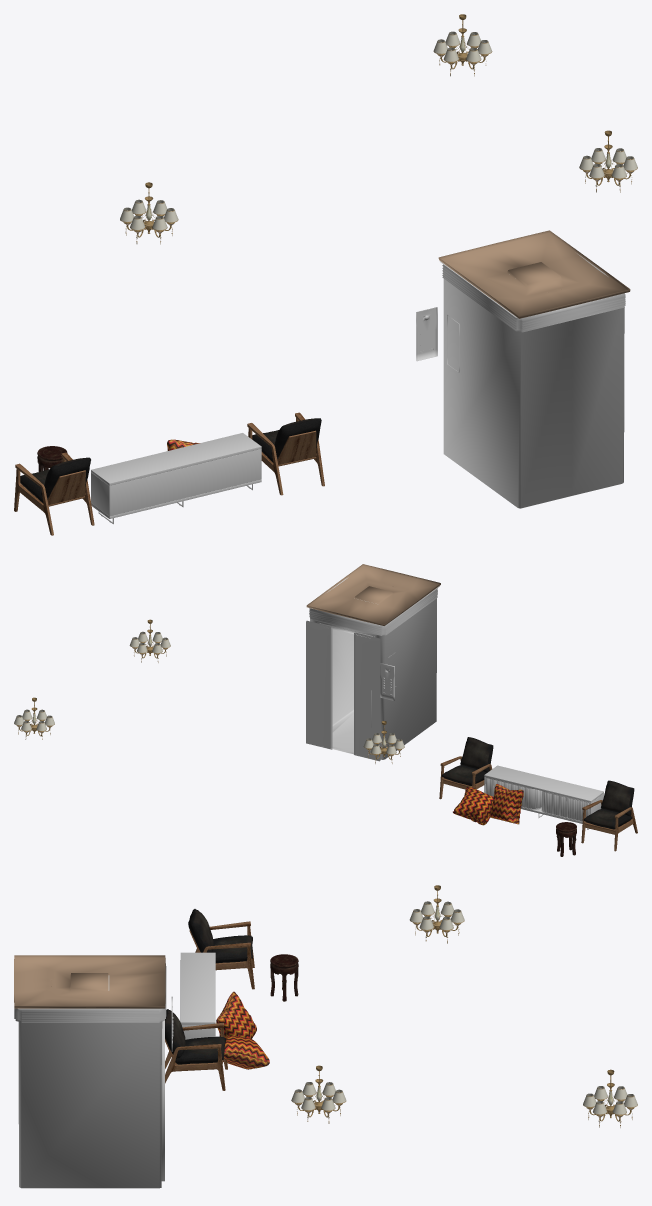
The picture shows the model from 3 angles, top to bottom: view 1: azimuth 30°, elevation 25°; view 2: azimuth 150°, elevation 25°; view 3: azimuth 270°, elevation 25°; orthographic projection. The views are drawn at different scales.
Parts seen in each view (by area): view 1: Box001, roof, modern_wooden_cabinet_body, modern_arm_chair_01, modern_arm_chair_01 (1), Chandelier_01.002, Chandelier_01.002 (2), Chandelier_01.002 (1), Panel-outer; view 2: Box001, roof, elevator-door-left, elevator-door-right, modern_wooden_cabinet_body, modern_arm_chair_01, modern_arm_chair_01 (1), throw_pillows_01_pillow01, throw_pillows_01_pillow02, modern_wooden_cabinet_door_r, Chandelier_01.002 (1), Chandelier_01.002 (2) (+4 smaller); view 3: Box001, roof, modern_wooden_cabinet_body, modern_arm_chair_01 (1), modern_arm_chair_01, Chandelier_01.002, Chandelier_01.002 (2), Chandelier_01.002 (1), throw_pillows_01_pillow01, throw_pillows_01_pillow02, WoodenTable_02.
Part boxes in pixels (x1,y1,x2,y2): Box001: (440,253,625,508); roof: (438,230,630,318); modern_wooden_cabinet_body: (91,433,261,524); modern_arm_chair_01: (14,452,94,535); modern_arm_chair_01 (1): (247,412,324,495); Chandelier_01.002: (120,182,178,244); Chandelier_01.002 (2): (433,14,492,76); Chandelier_01.002 (1): (579,130,637,192); Panel-outer: (416,307,437,361); Box001: (308,577,439,759); roof: (306,564,440,625); elevator-door-left: (306,620,332,749); elevator-door-right: (354,632,380,761); modern_wooden_cabinet_body: (484,765,603,829); modern_arm_chair_01: (581,780,637,851); modern_arm_chair_01 (1): (439,737,493,799); throw_pillows_01_pillow01: (453,787,493,825); throw_pillows_01_pillow02: (489,784,523,824); modern_wooden_cabinet_door_r: (542,791,590,821); Chandelier_01.002 (1): (129,619,170,662); Chandelier_01.002 (2): (14,697,54,739); Box001: (14,963,166,1188); roof: (14,955,165,1008); modern_wooden_cabinet_body: (180,952,215,1039); modern_arm_chair_01 (1): (165,1009,227,1090); modern_arm_chair_01: (188,909,254,989); Chandelier_01.002: (409,885,464,943); Chandelier_01.002 (2): (583,1069,637,1127); Chandelier_01.002 (1): (291,1065,346,1123); throw_pillows_01_pillow01: (223,1036,269,1069); throw_pillows_01_pillow02: (216,991,256,1038); WoodenTable_02: (270,954,298,1001).
Size of the model in its own units: 1064 by 324 by 924.
